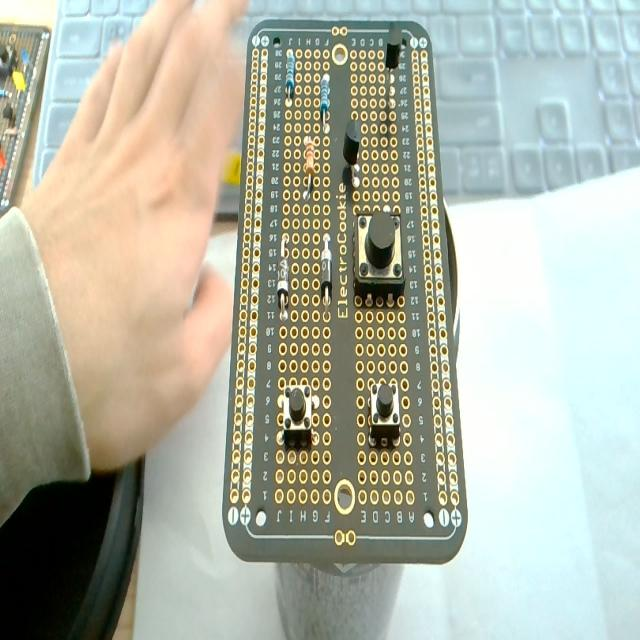diode: (277, 236, 289, 318), (322, 234, 332, 308)
resistor: (302, 133, 322, 203), (319, 71, 330, 128), (284, 54, 294, 98)
switch: (353, 209, 405, 304), (368, 380, 400, 446), (282, 383, 316, 445)
transistor: (384, 23, 402, 120), (342, 115, 361, 166)
